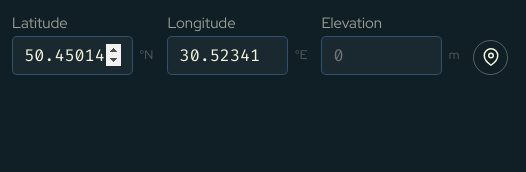
Test case: LocationInput › explains a denied permission instead of failing silently
Click the button named "use my location". click: point(491, 57)
box: left=474, top=40, right=508, bottom=75
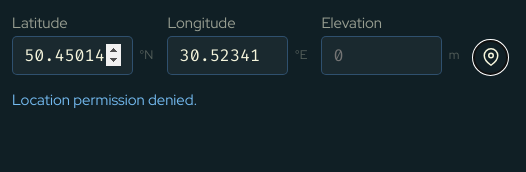
expect the text "Location permission denied." is shown: met, box left=12, top=90, right=197, bottom=110
